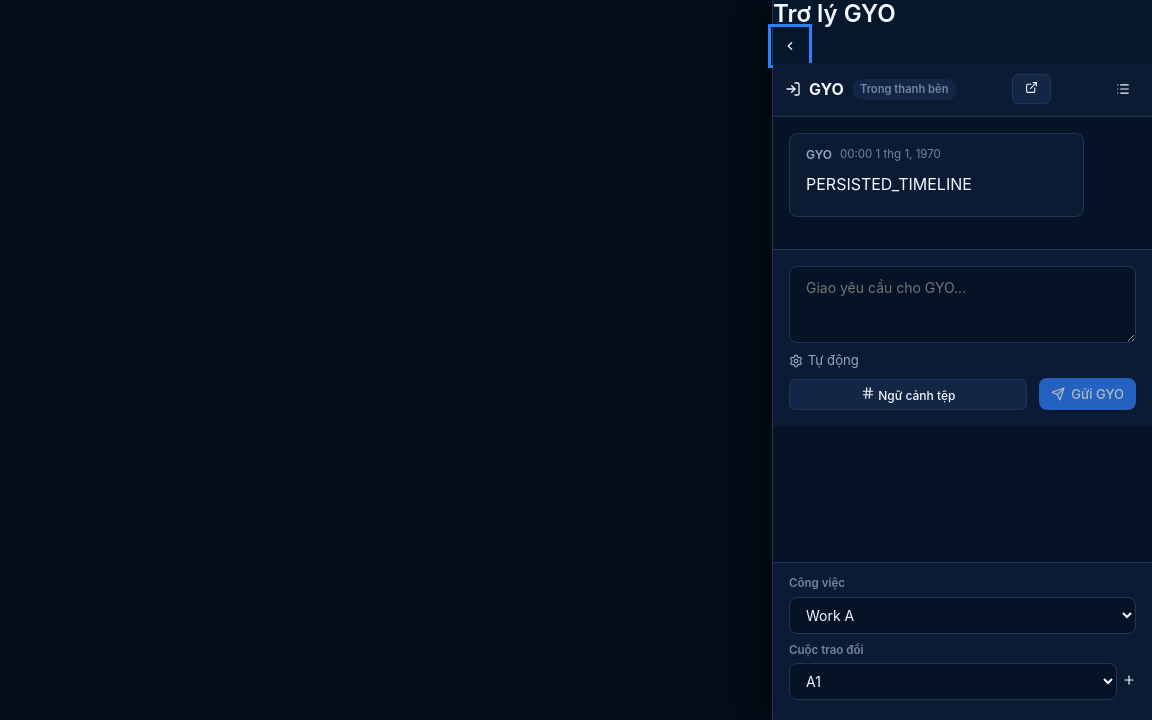
Test case: AssistantChatSidebar › keeps the prompt and reports a scope/run conflict without creating another Conversation or retrying after run 409
Expected: the dropdown named "Cuộc trao đổi" shows "A1", [789,663,1117,700]
Expected: the text "PERSISTED_TIMELINE" is shown, [806,172,972,196]
Type "test prompt" into the text box with placeholder "Giao yêu cầu cho GYO..." at (962,304), box [789,266,1136,343]
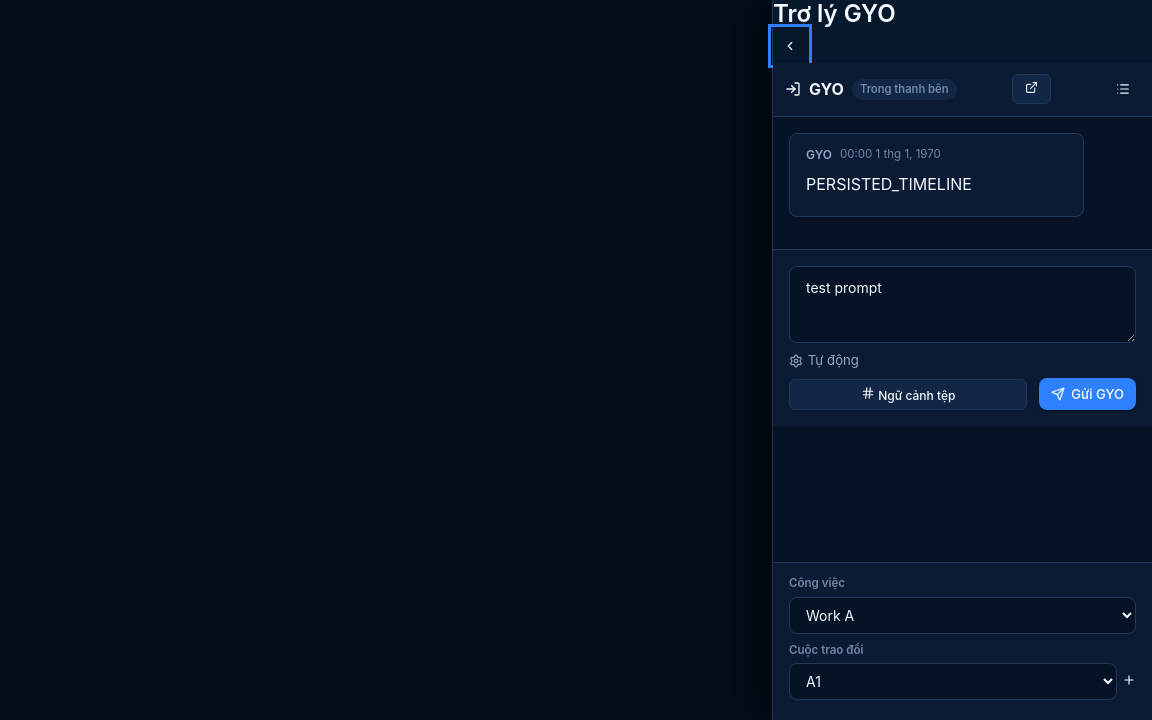
Result: the button "Gửi GYO" is enabled
Click the button "Gửi GYO" at (1088,394), box [1039,378,1136,410]
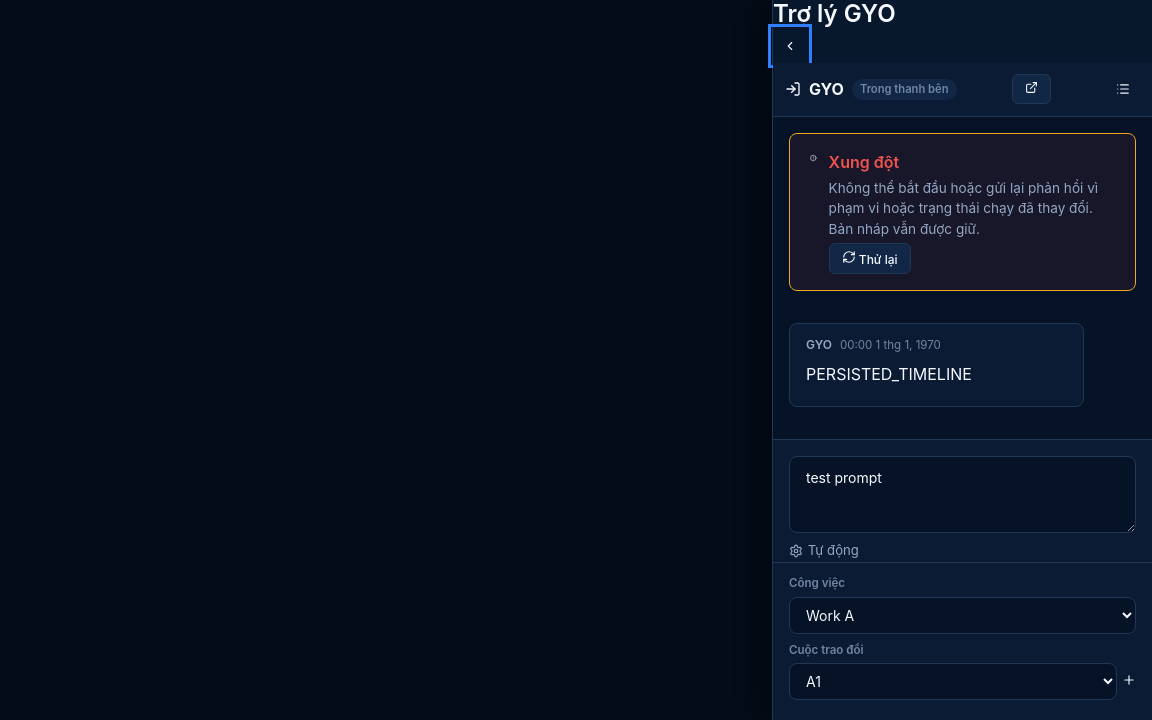
Expected: the text "PERSISTED_TIMELINE" is shown, [806,362,972,386]
Result: the message shows "phạm vi hoặc trạng thái chạy" at [829,180,1098,237]
